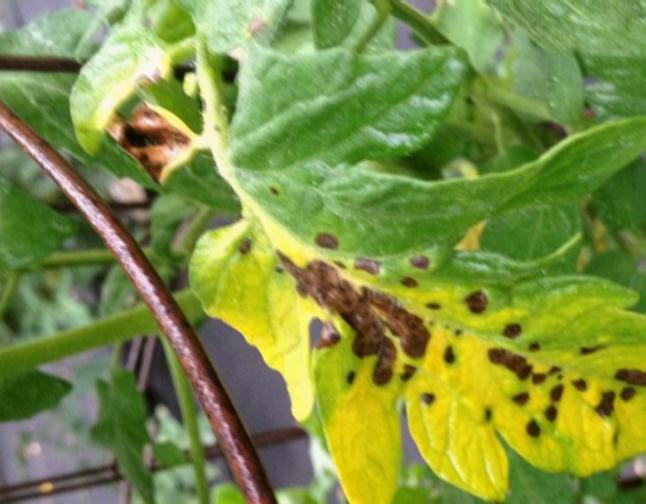Tomato leaf bacterial spot: (173, 187, 646, 504)
